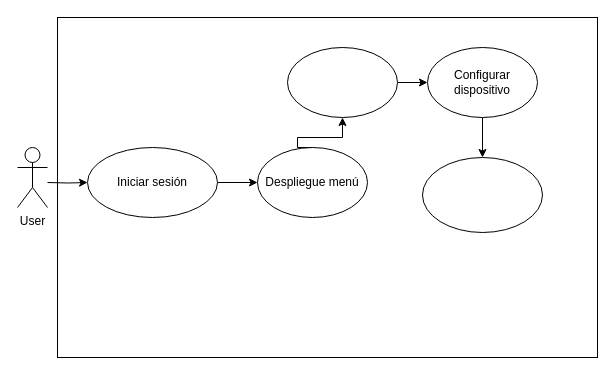
This 615x375 diagram has some shape labels left out. Each missing label, with the box of its shape:
Muestra apartados los dispositivos conectados: (422, 156, 542, 232)
Seleccionar opciones: (286, 46, 398, 118)
